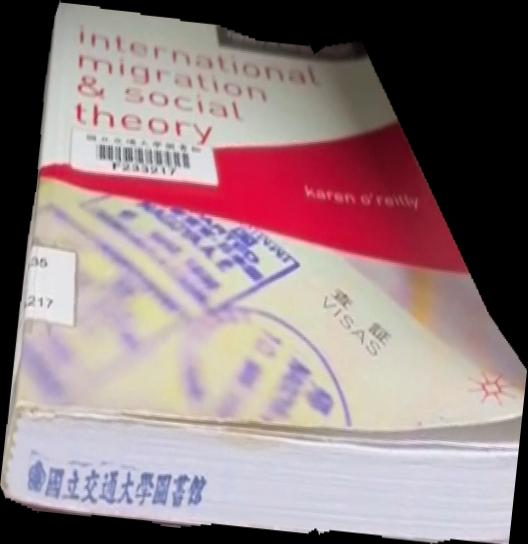flat: (1, 1, 528, 544)
